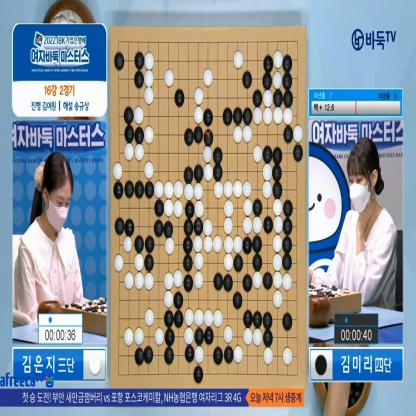streamer: (309, 136, 399, 309), (14, 153, 85, 325)
